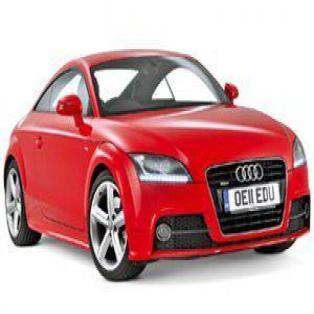Auto: (2, 47, 312, 284)
